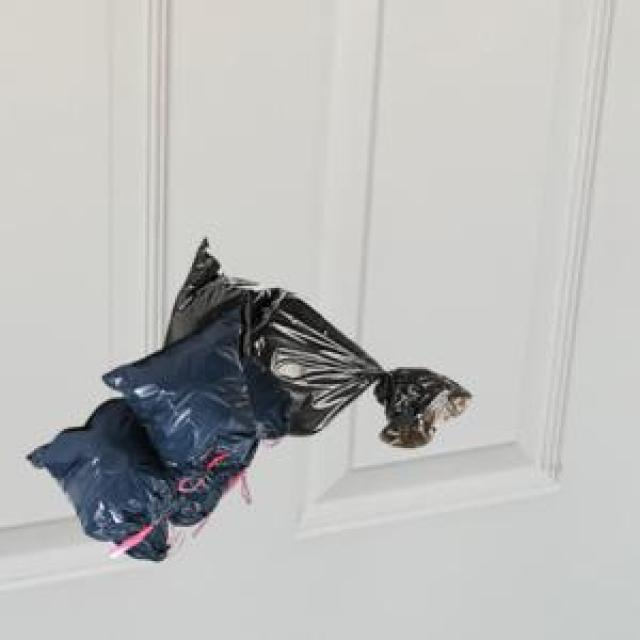Vinyl: (29, 240, 470, 559)
